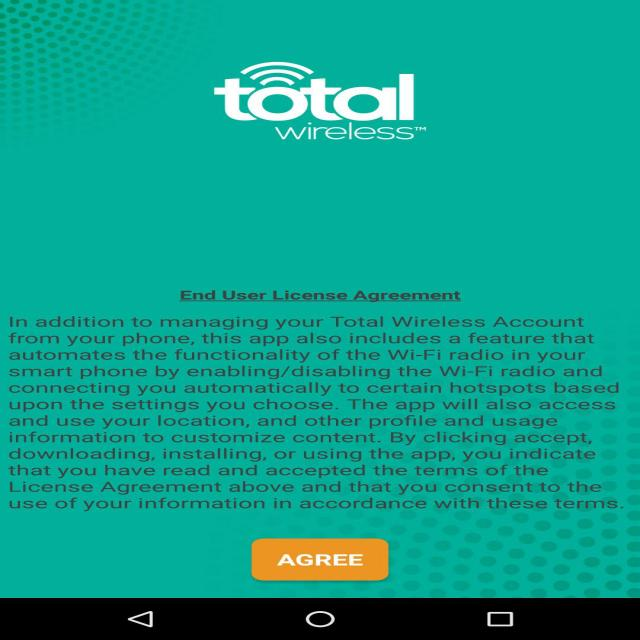icon: (255, 541, 399, 582), (233, 52, 322, 83)
image: (0, 0, 217, 157)
text: (4, 307, 640, 518), (217, 74, 450, 148), (164, 286, 499, 309), (284, 550, 373, 568)
